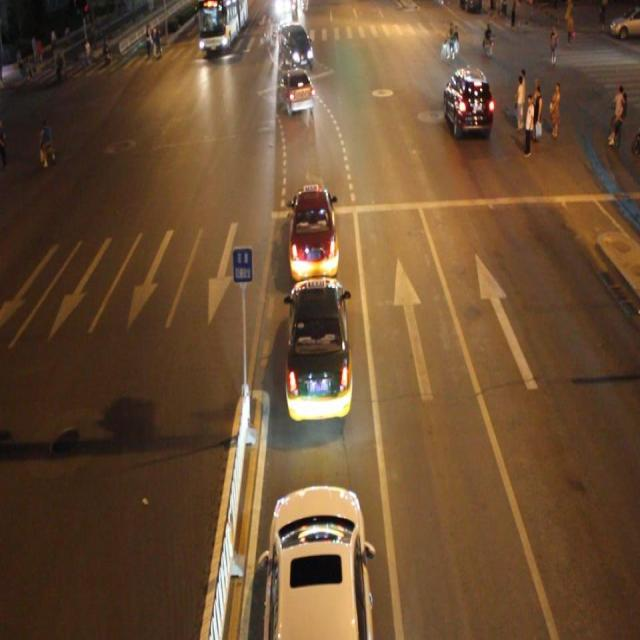car: (259, 479, 375, 640), (282, 274, 354, 422), (285, 182, 343, 280), (442, 66, 492, 139), (278, 67, 314, 113), (280, 23, 313, 68)
van: (198, 1, 248, 52)
